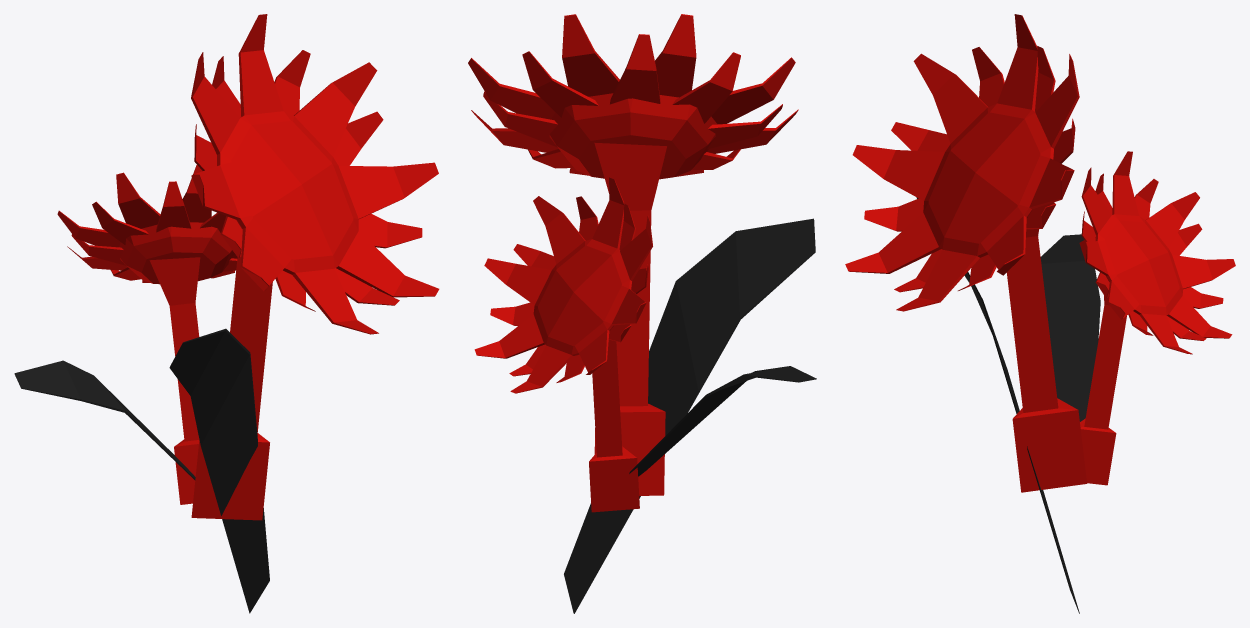
The model's file is flower.fbx.
The picture shows the model from 3 angles, left to right: view 1: azimuth 30°, elevation 25°; view 2: azimuth 150°, elevation 25°; view 3: azimuth 270°, elevation 25°; orthographic projection. The views are drawn at different scales.
Visible parts, largest first — view 1: Fleur005, feuilles002, Fleur006; view 2: Fleur005, Fleur006, feuilles002; view 3: Fleur005, Fleur006, feuilles002.
Part boxes in pixels (x1,y1,x2,y2): Fleur005: (191, 14, 439, 520); feuilles002: (14, 328, 269, 613); Fleur006: (57, 165, 237, 504); Fleur005: (468, 14, 798, 495); Fleur006: (474, 177, 652, 512); feuilles002: (564, 218, 816, 613); Fleur005: (845, 14, 1086, 492); Fleur006: (1079, 151, 1235, 485); feuilles002: (916, 197, 1100, 613).
Size of the model in its own units: 0.3298 by 0.4981 by 0.3131.
